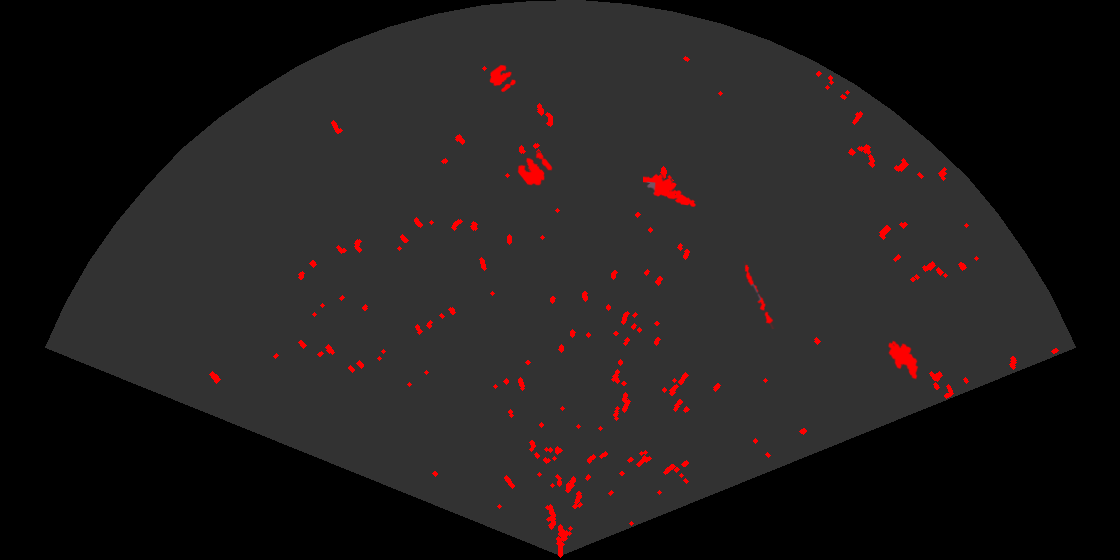AUV: (886, 339, 920, 381)
ball: (516, 150, 554, 187), (488, 63, 517, 94)
chain: (742, 261, 776, 329)
frogman: (643, 172, 698, 209)
